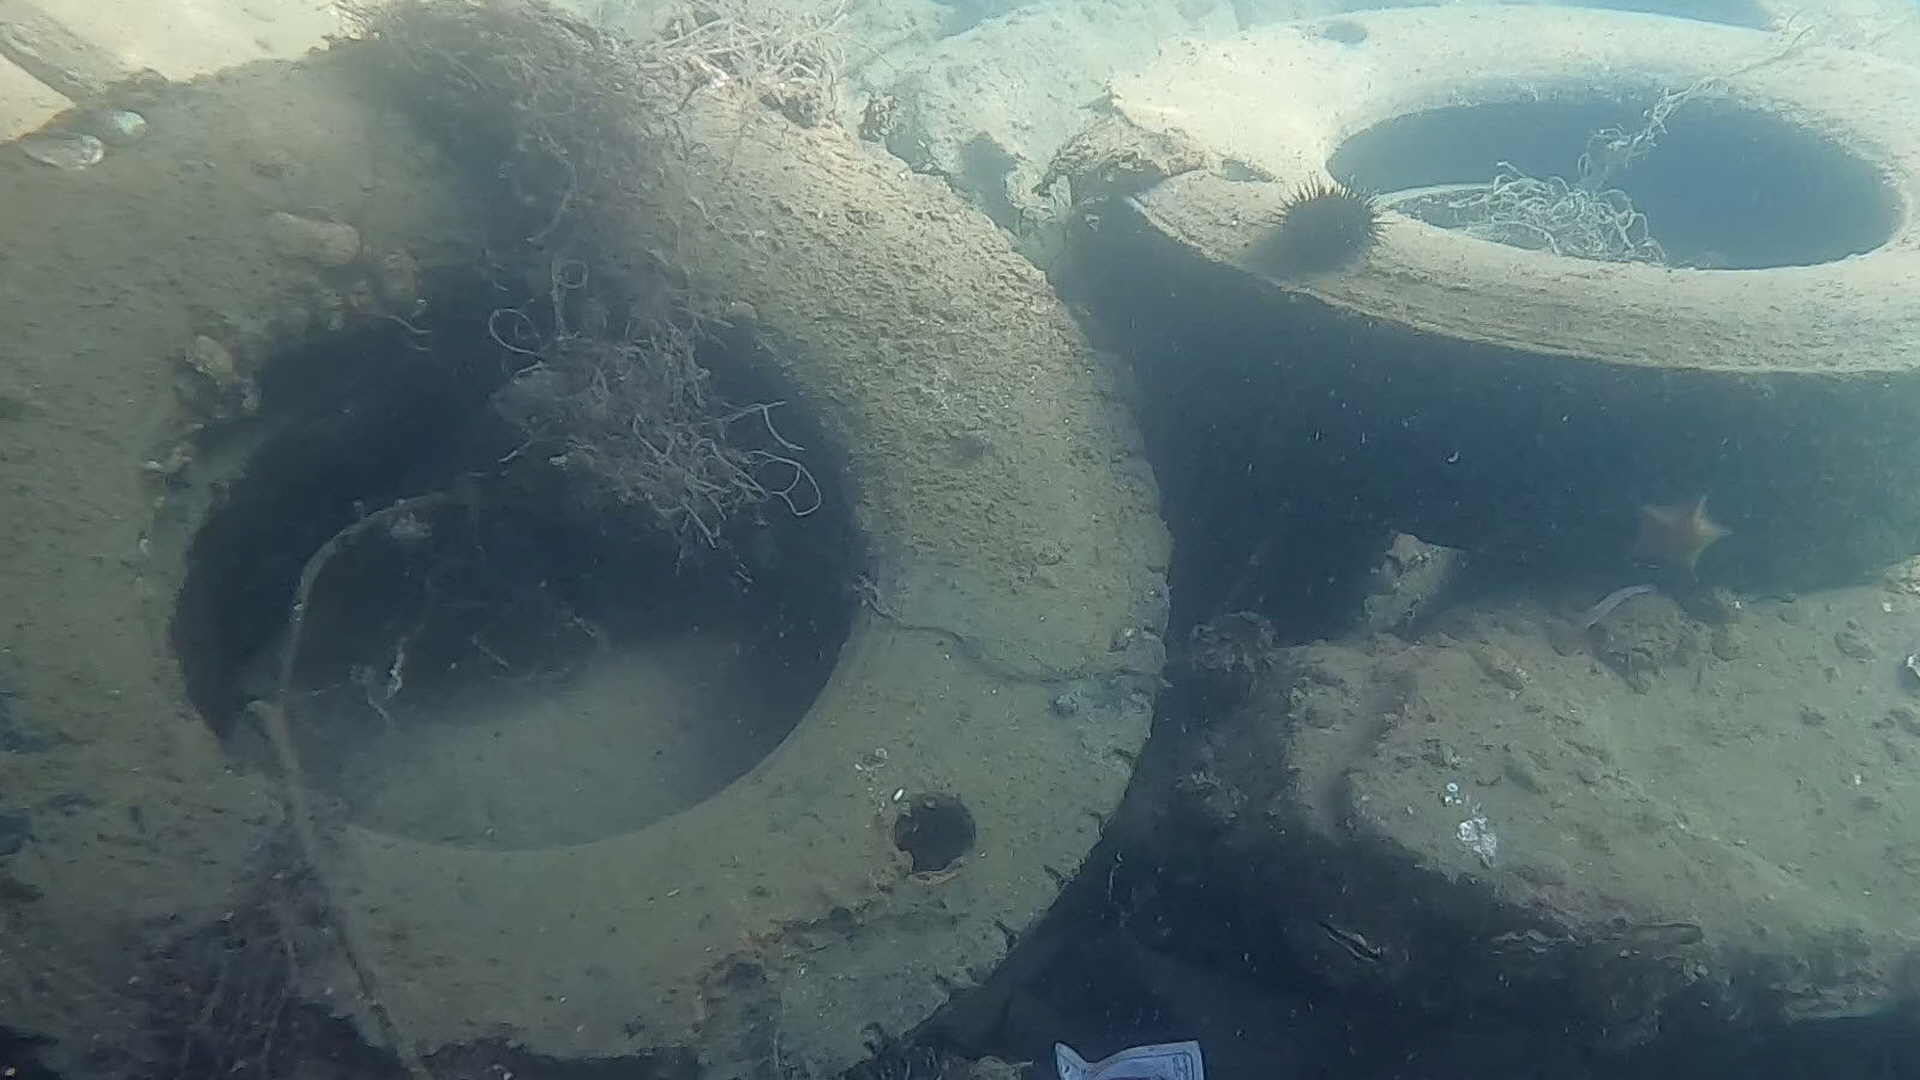tire: (0, 37, 1174, 1080), (1091, 0, 1920, 481)
